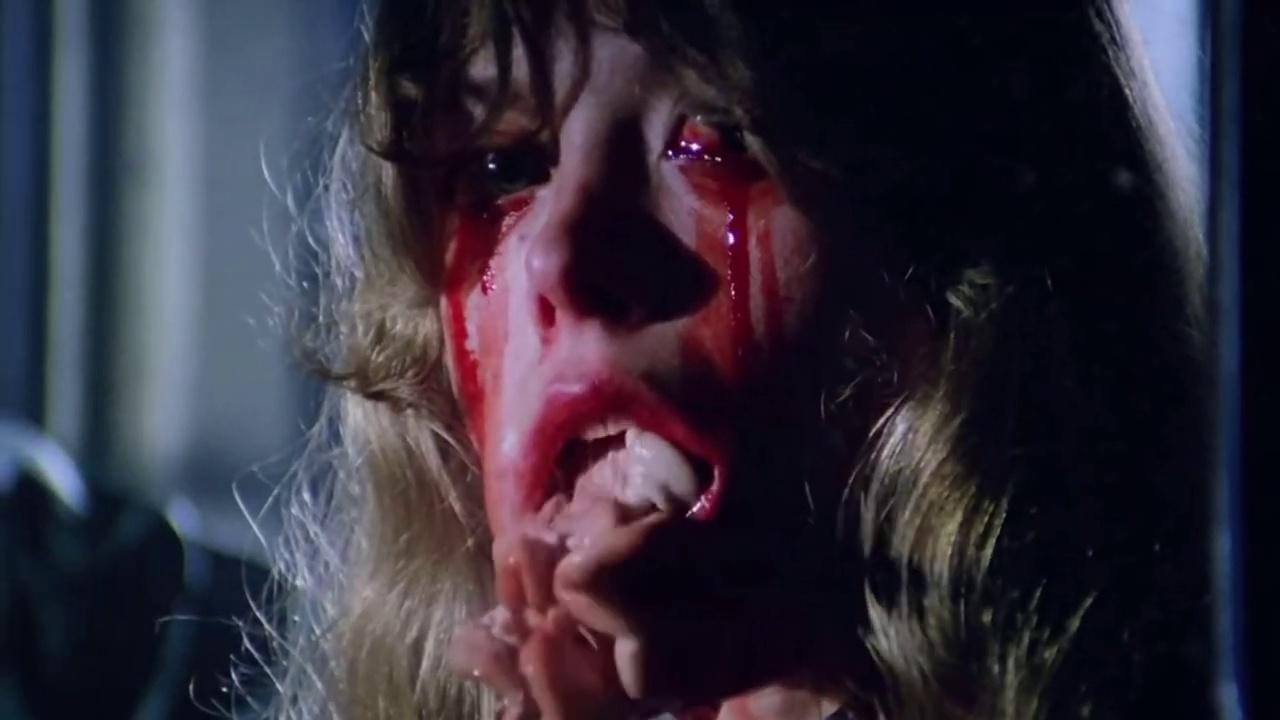Fire: (440, 44, 822, 610)
